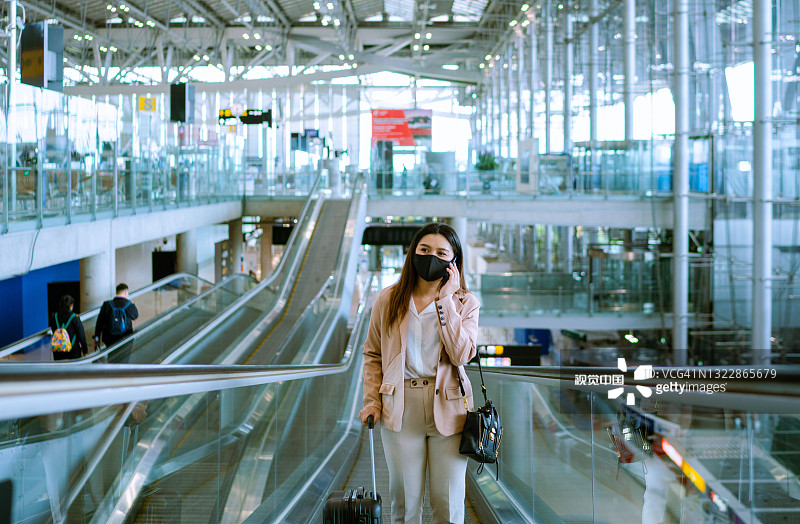calling: (428, 256, 478, 308)
no-phone: (352, 394, 392, 441)
